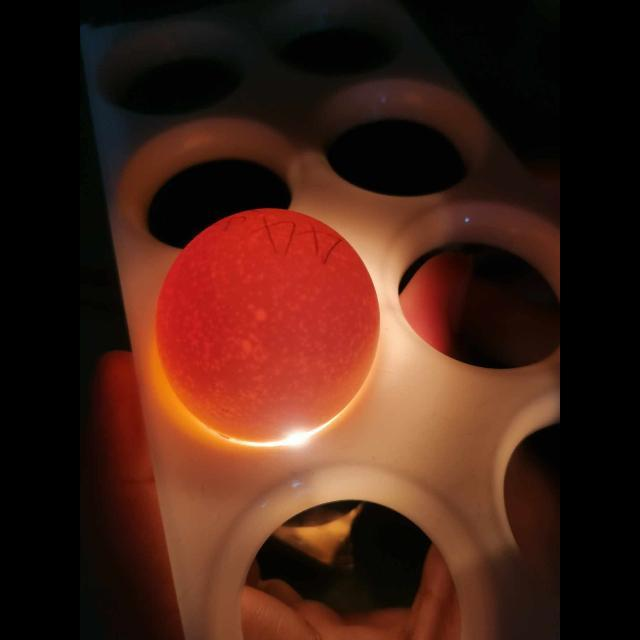Infertile: (157, 204, 379, 438)
